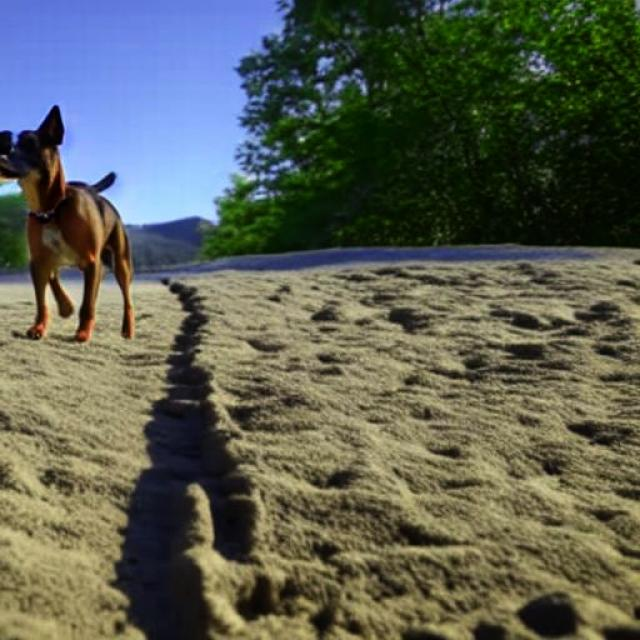Dog: (0, 104, 133, 342)
